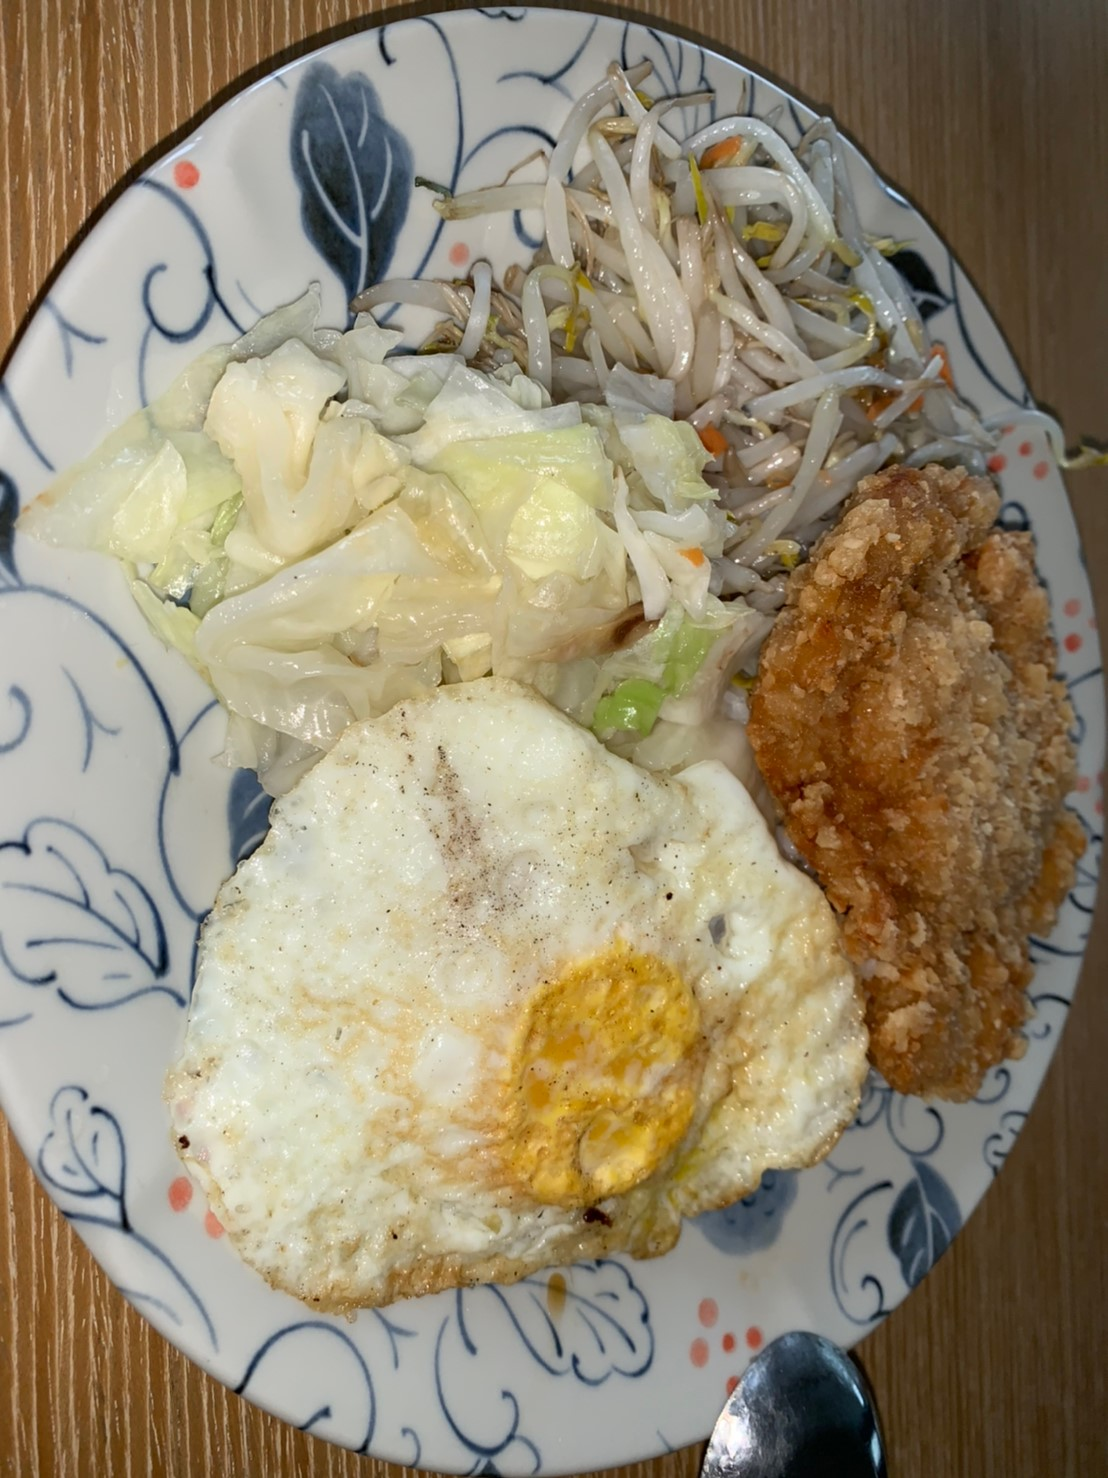chinese_cabbage: (20, 317, 717, 744)
fried_chicken: (757, 461, 1093, 1113)
fried_eggs: (148, 684, 869, 1302)
mung_bean_sprouts: (547, 95, 926, 438)
